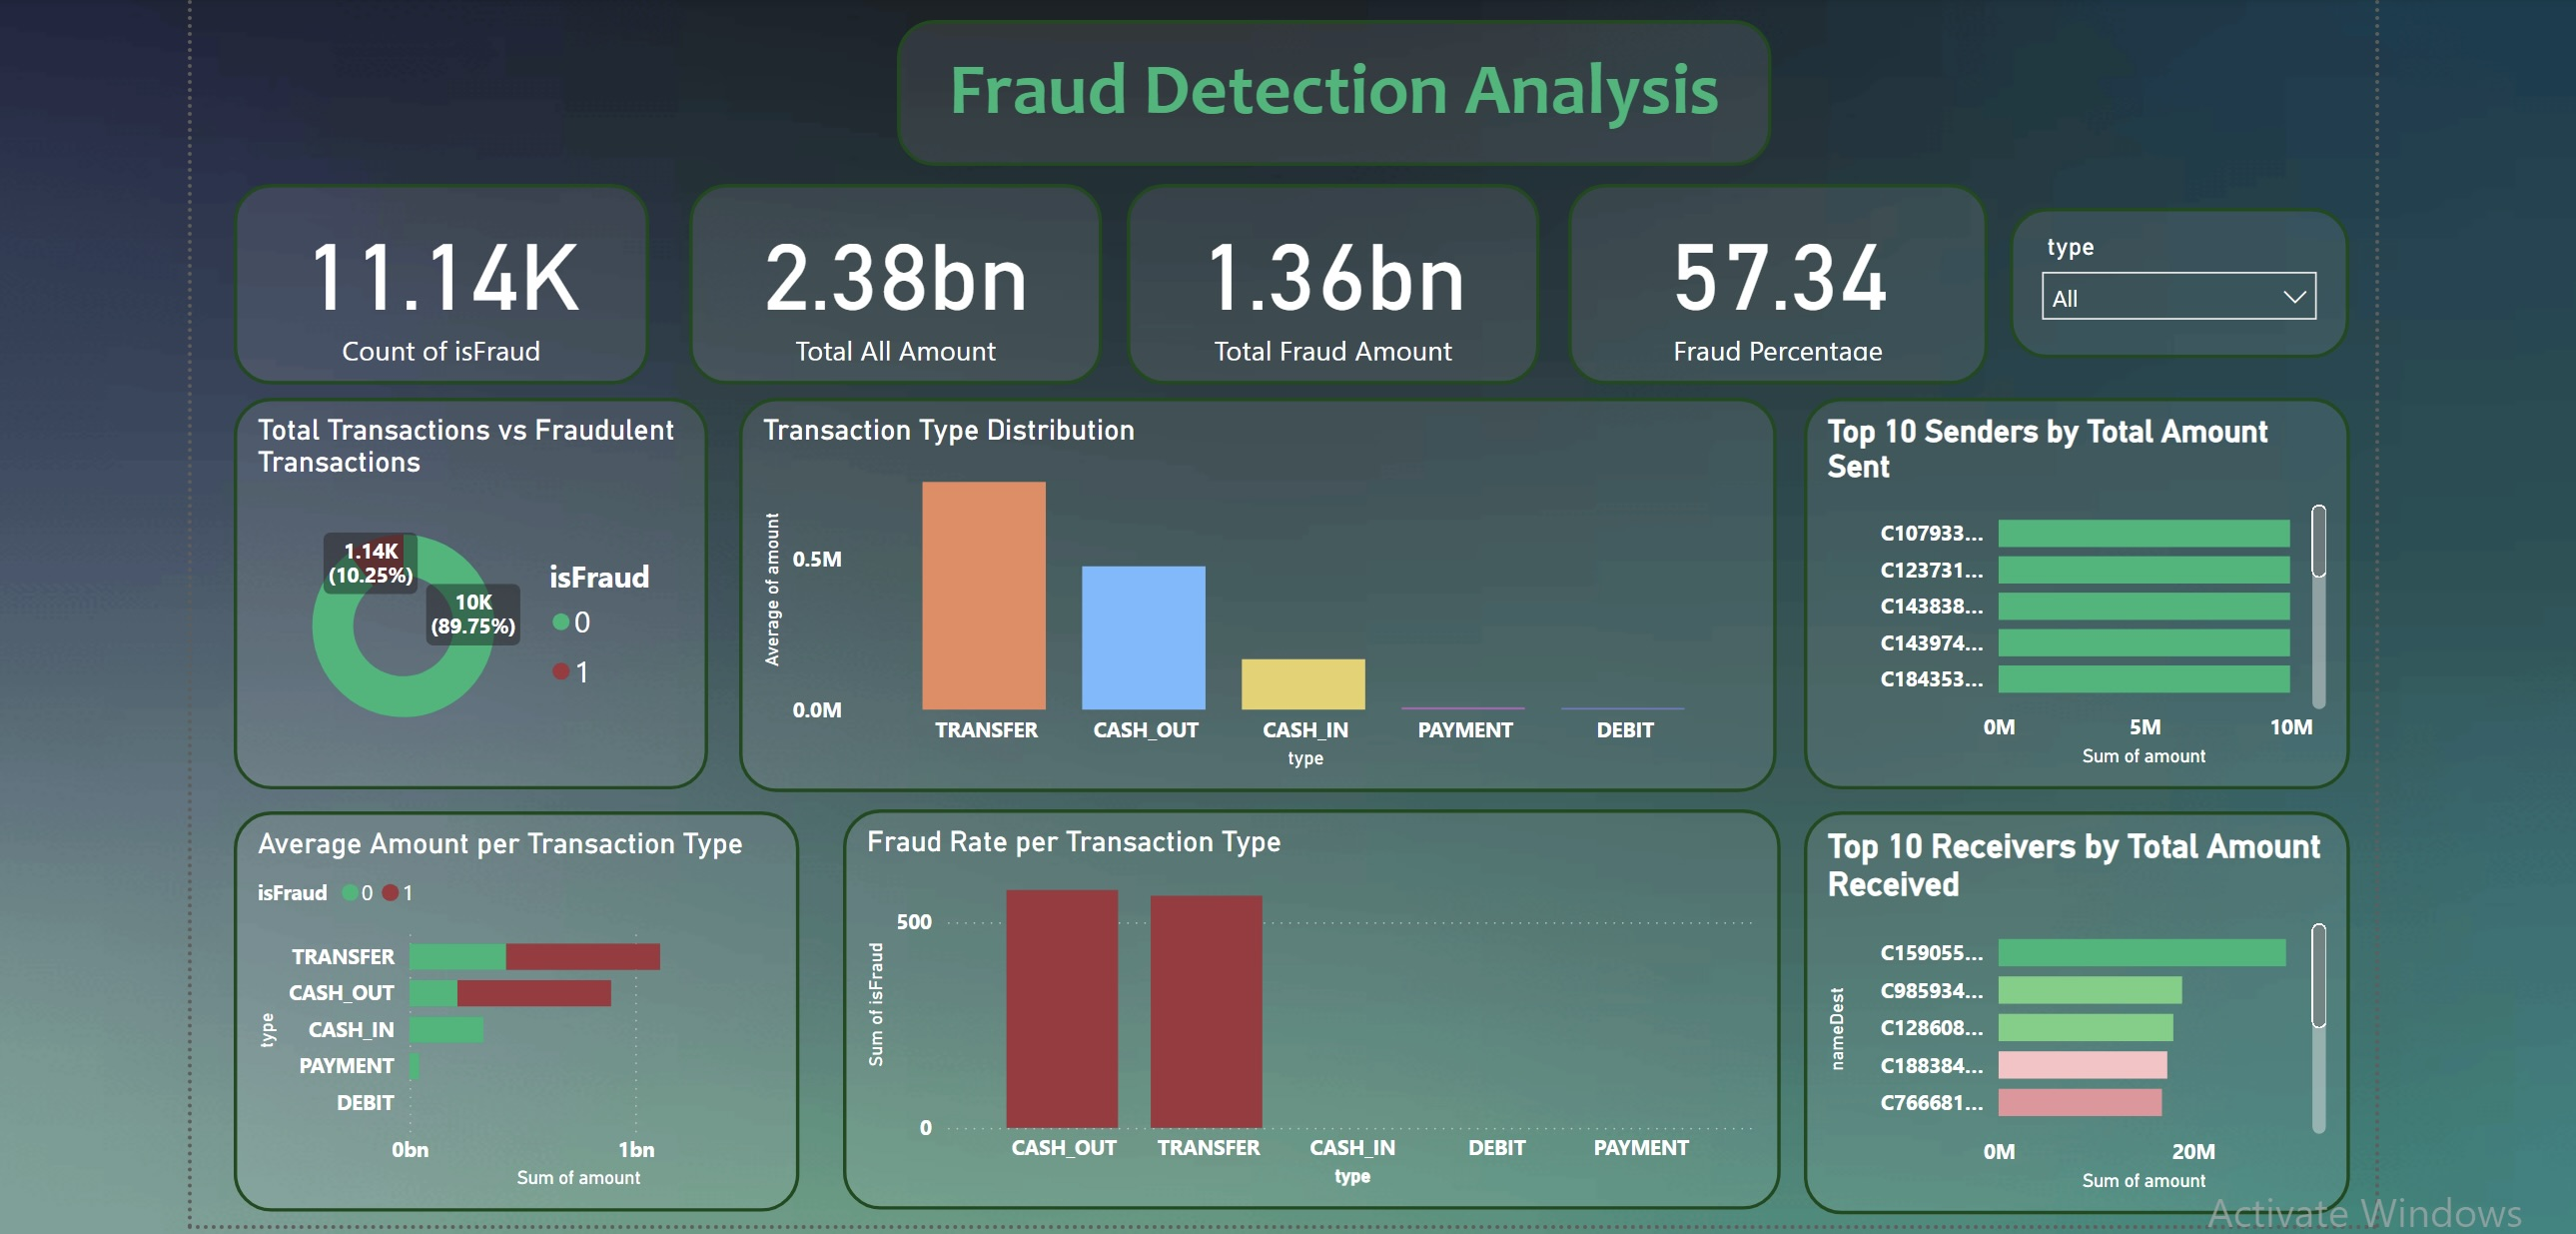

Layout of this report page (visuals, bound fields, positions):
{"tool":"powerbi","page":{"name":"Page 1","canvas":[1280,720],"ordinal":0},"visuals":[{"type":"textbox","box":[413.1,14,512.5,85.4],"z":0},{"type":"donutChart","title":"Total Transactions vs Fraudulent Transactions","fields":{"Y":["CountNonNull(Fraud_Analysis_Dataset (1).isFraud)"],"Category":["Fraud_Analysis_Dataset (1).isFraud"],"Series":["Fraud_Analysis_Dataset (1).isFraud"]},"box":[24.2,235.9,277.9,229.5],"z":1000},{"type":"barChart","title":"Average Amount per Transaction Type","fields":{"Y":["Sum(Fraud_Analysis_Dataset (1).amount)"],"Category":["Fraud_Analysis_Dataset (1).type"],"Series":["Fraud_Analysis_Dataset (1).isFraud"]},"box":[24.2,478.1,331.5,234.6],"z":2000},{"type":"columnChart","title":"Transaction Type Distribution","fields":{"Category":["Fraud_Analysis_Dataset (1).type"],"Y":["Avg(Fraud_Analysis_Dataset (1).amount)"]},"box":[321.3,235.9,608.1,230.8],"z":3000},{"type":"clusteredColumnChart","title":"Fraud Rate per Transaction Type","fields":{"Category":["Fraud_Analysis_Dataset (1).type"],"Y":["Sum(Fraud_Analysis_Dataset (1).isFraud)"]},"box":[381.2,476.8,549.5,234.6],"z":4000},{"type":"card","fields":{"Values":["CountNonNull(Fraud_Analysis_Dataset (1).isFraud)"]},"box":[24.2,109.6,243.5,117.3],"z":5000},{"type":"card","fields":{"Values":["Fraud_Analysis_Dataset (1).Total All Amount"]},"box":[291.9,109.6,242.2,117.3],"z":6000},{"type":"card","fields":{"Values":["Fraud_Analysis_Dataset (1).Total Fraud Amount"]},"box":[548.2,109.6,242.2,117.3],"z":7000},{"type":"card","fields":{"Values":["Fraud_Analysis_Dataset (1).Fraud Percentage"]},"box":[807,109.6,246.1,117.3],"z":8000},{"type":"barChart","title":"Top 10 Senders by Total Amount Sent","fields":{"Y":["Sum(Fraud_Analysis_Dataset (1).amount)"],"Category":["Fraud_Analysis_Dataset (1).nameOrig"]},"box":[944.7,235.9,320,229.5],"z":9000},{"type":"slicer","fields":{"Values":["Fraud_Analysis_Dataset (1).type"]},"box":[1065.8,123.7,198.9,88],"z":10000},{"type":"barChart","title":"Top 10 Receivers by Total Amount Received","fields":{"Category":["Fraud_Analysis_Dataset (1).nameDest"],"Y":["Sum(Fraud_Analysis_Dataset (1).amount)"]},"box":[944.7,478.1,320,235.9],"z":11000}]}

Visuals, with their boxes on the page's 1280x720 design canvas (x1, y1, x2, y2). These are canvas units, not pixel positions in the 2576x1234 screenshot, which may show the page scaled, cropped or inside an application window:
textbox: (413,14,926,99)
"Total Transactions vs Fraudulent Transactions" donutChart: (24,236,302,465)
"Average Amount per Transaction Type" barChart: (24,478,356,713)
"Transaction Type Distribution" columnChart: (321,236,929,467)
"Fraud Rate per Transaction Type" clusteredColumnChart: (381,477,931,711)
card - CountNonNull(Fraud_Analysis_Dataset (1).isFraud): (24,110,268,227)
card - Fraud_Analysis_Dataset (1).Total All Amount: (292,110,534,227)
card - Fraud_Analysis_Dataset (1).Total Fraud Amount: (548,110,790,227)
card - Fraud_Analysis_Dataset (1).Fraud Percentage: (807,110,1053,227)
"Top 10 Senders by Total Amount Sent" barChart: (945,236,1265,465)
slicer - Fraud_Analysis_Dataset (1).type: (1066,124,1265,212)
"Top 10 Receivers by Total Amount Received" barChart: (945,478,1265,714)
